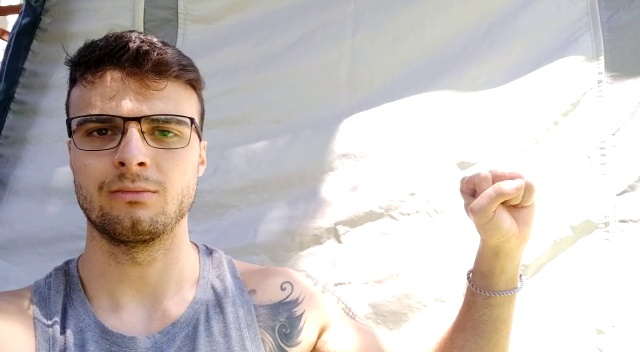Fist: (459, 164, 544, 245)
